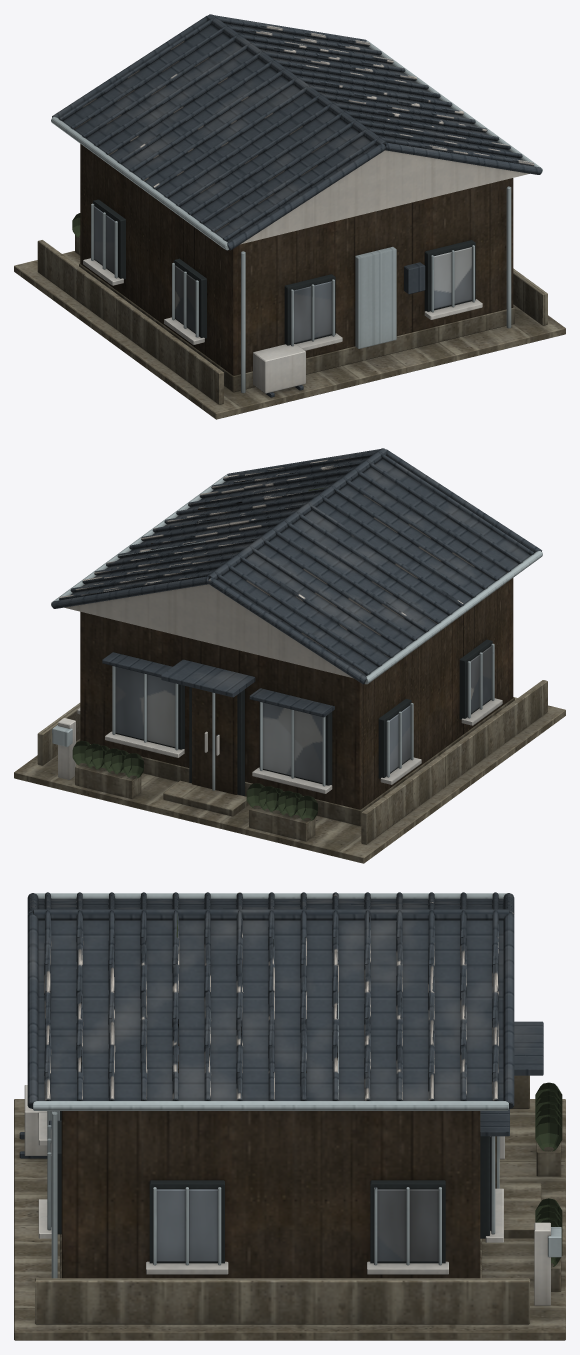
File: residential_013.obj
3 renders of one model, top to bottom at view 1: azimuth 30°, elevation 25°; view 2: azimuth 150°, elevation 25°; view 3: azimuth 270°, elevation 25°, orthographic. The views are drawn at different scales.
Visible parts, largest first — view 1: residential_013; view 2: residential_013; view 3: residential_013.
Part boxes in pixels (bbox=[...]): residential_013: bbox=[14, 14, 565, 419]; residential_013: bbox=[14, 448, 565, 863]; residential_013: bbox=[14, 892, 565, 1340].
Bounding box in the file's own units: 7.25 × 4.56 × 7.25.
1 material, 1 textured.
